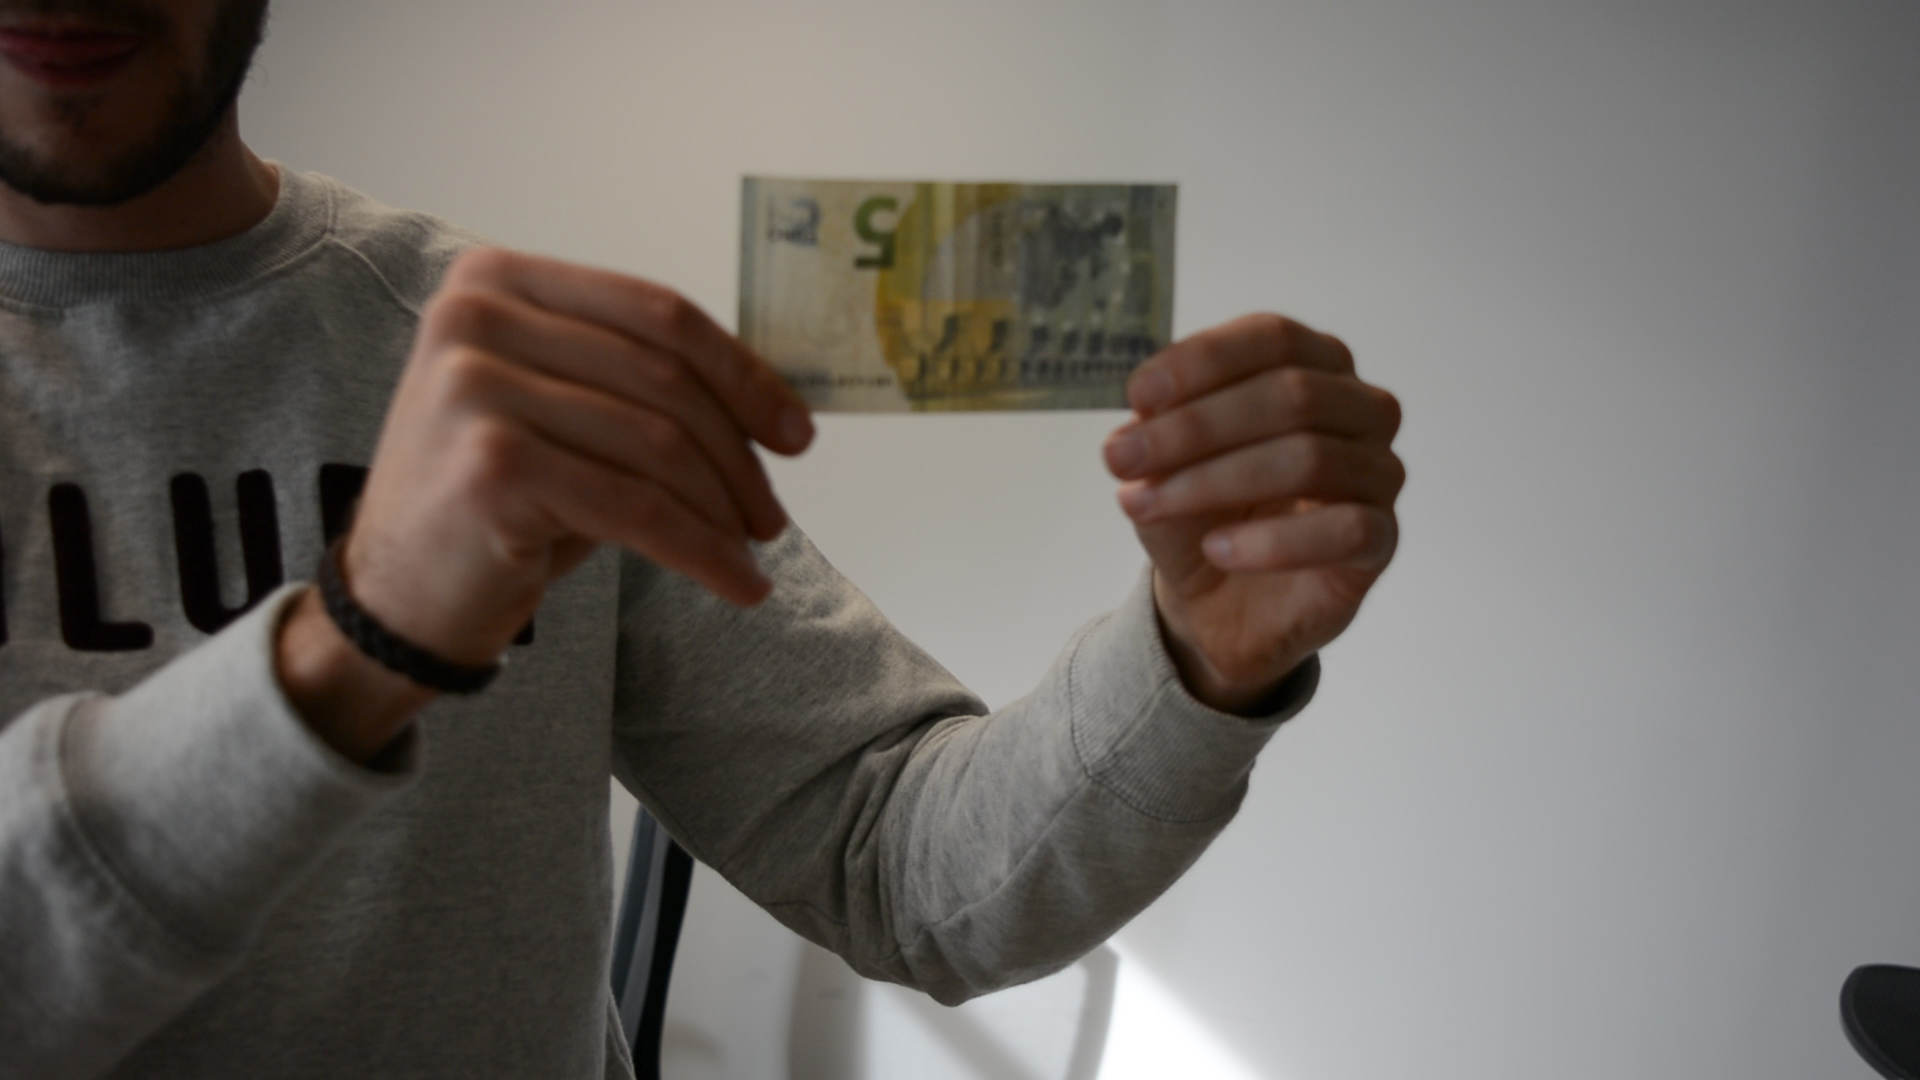billete: (738, 174, 1182, 415)
